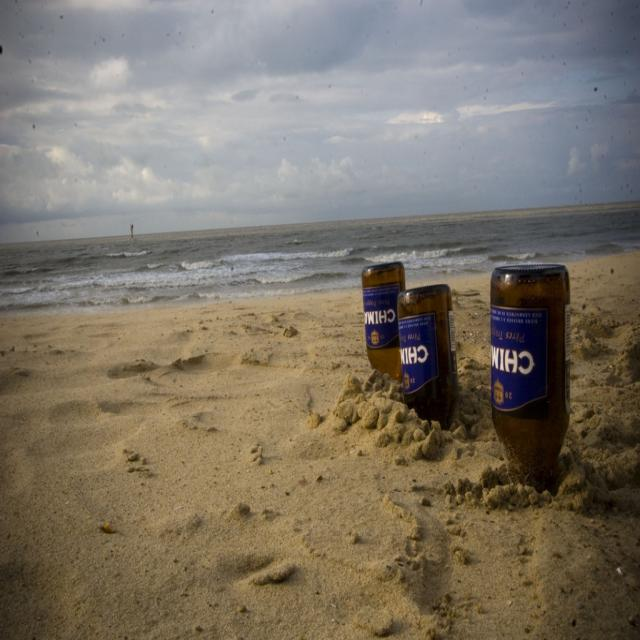chimay: (491, 305, 550, 411), (399, 313, 440, 395), (362, 285, 402, 349)
